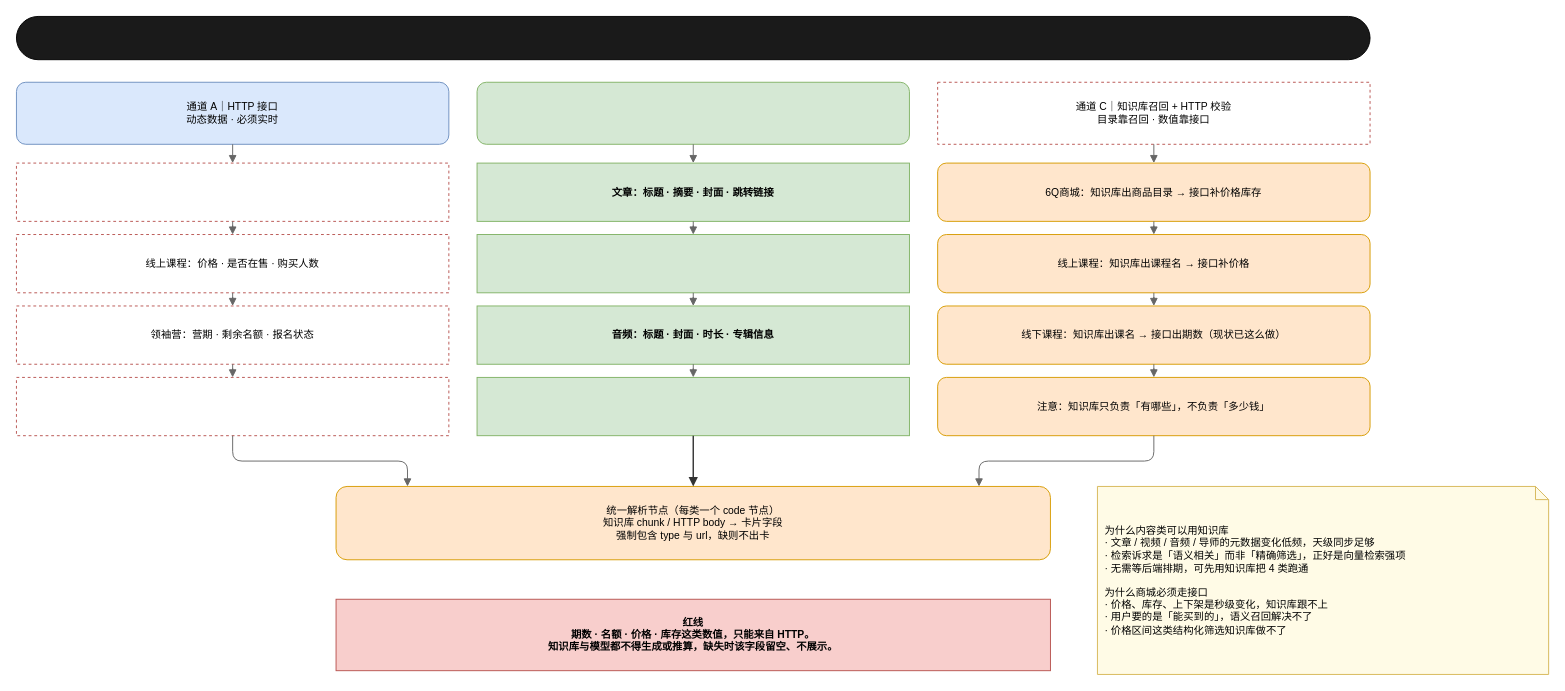
This 1565x691 diagram has some shape labels left out. Here are the shapes that lost their labels. From the top down, the box of each, then its label:
(16, 16, 1370, 60): 子流检索节点的数据源选型：按「数据是否会变」分成三种通道
(476, 81, 909, 144): 通道 B｜知识库检索 静态元数据 · 语义召回
(16, 162, 449, 221): 线下课程：期数 · 开课日期 · 剩余名额
(476, 234, 909, 293): 视频：标题 · 封面 · 时长 · 播放页链接
(16, 376, 449, 436): 6Q商城：价格 · 库存 · 上下架状态
(476, 376, 909, 436): 高EQ导师：姓名 · 擅长 · 简介 · 头像链接
